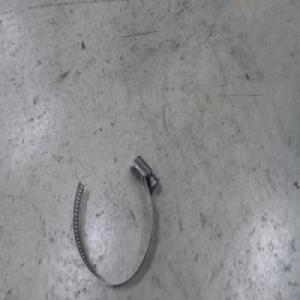AdjustableClamp: (72, 154, 158, 284)
